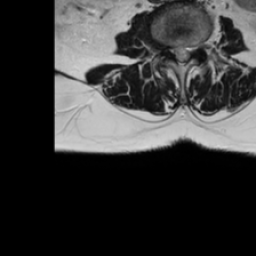CCS_normal: (177, 38, 184, 71)
LFS_stenosis: (191, 34, 199, 56)
LLS_normal: (184, 40, 191, 66)
RFS_severe_stenosis: (161, 38, 169, 60)
RLS_stenosis: (169, 39, 177, 63)
